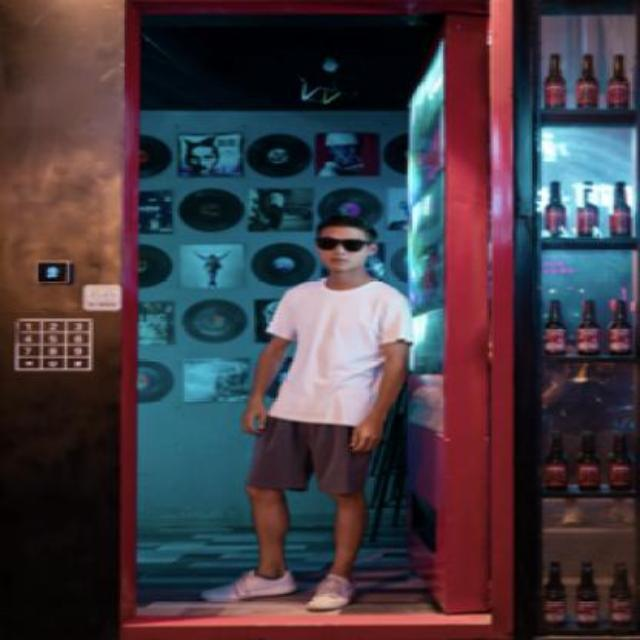glasses: (316, 236, 369, 252)
